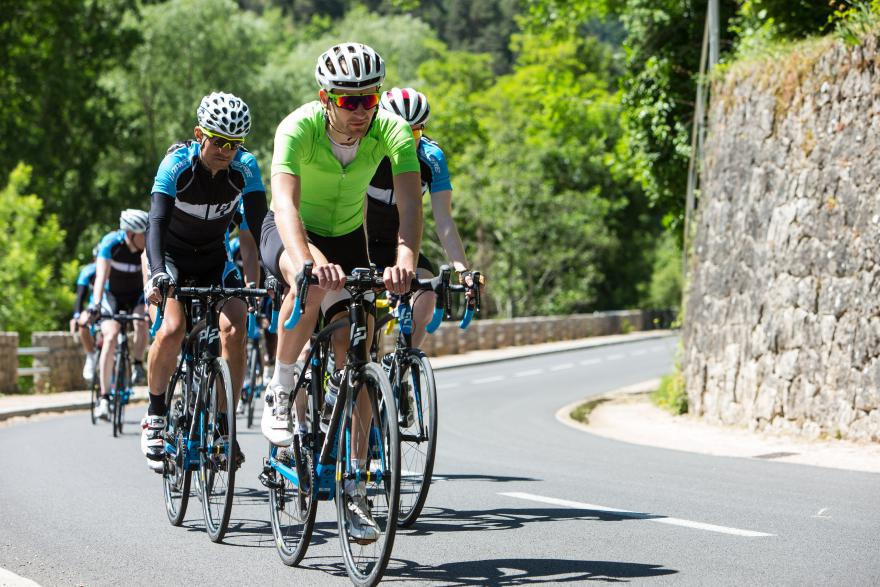helmet: (314, 40, 377, 93), (196, 90, 253, 140), (389, 84, 425, 118)
